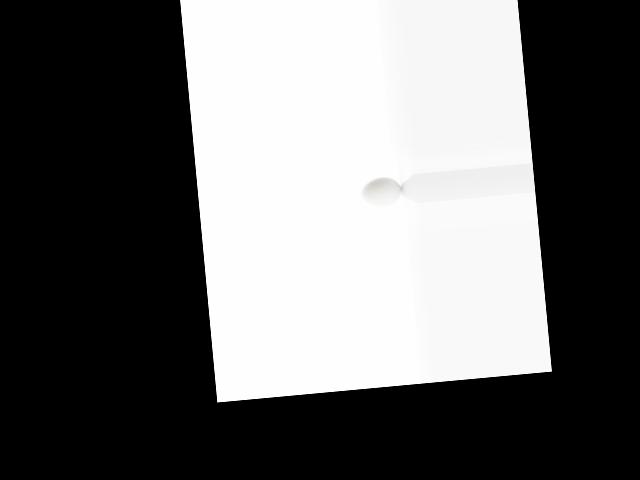egg: (360, 175, 402, 207)
